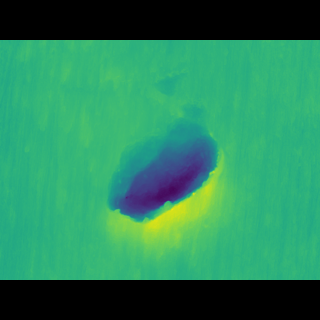Loch: (100, 115, 236, 216)
